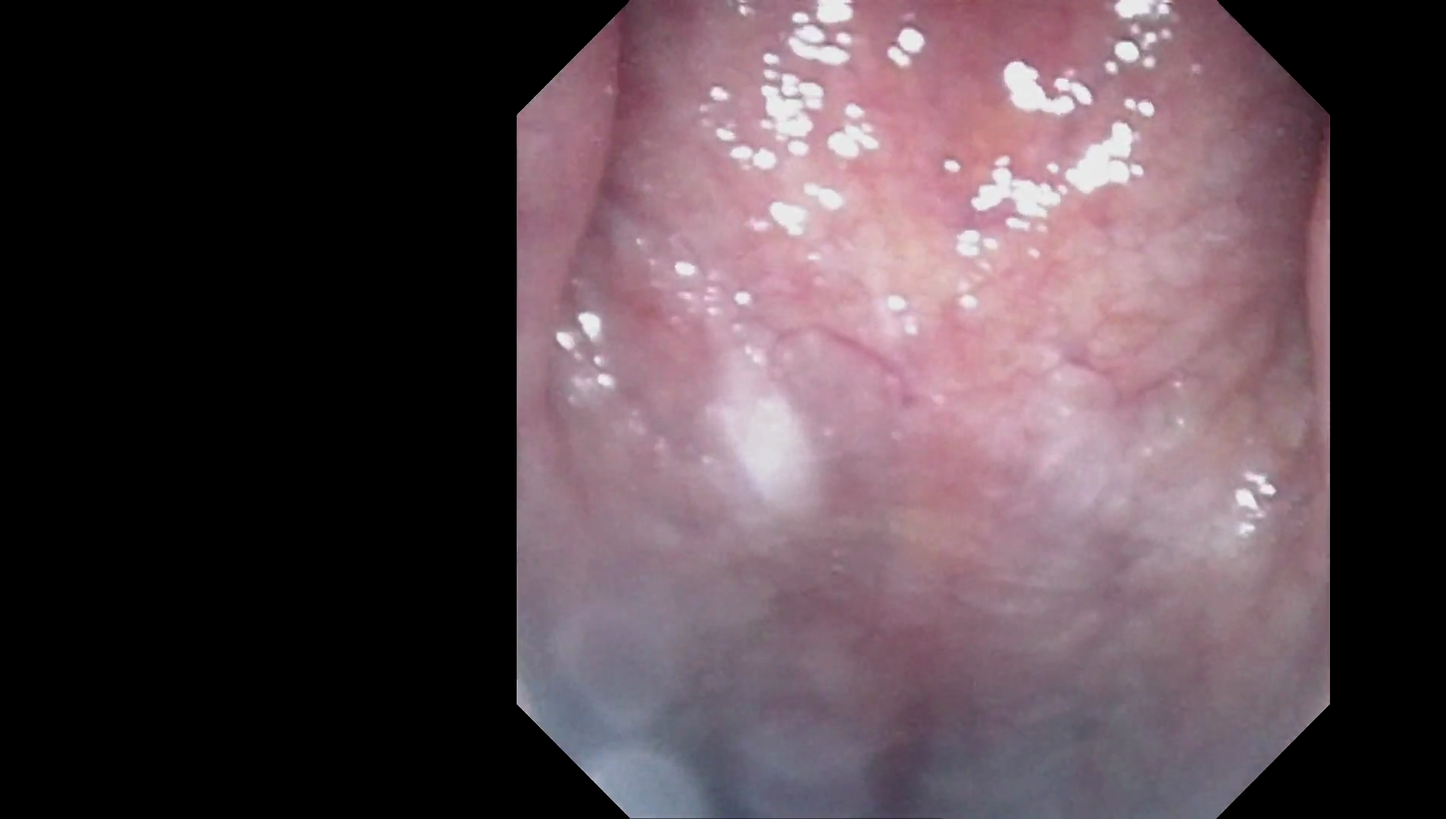next: (574, 687, 1104, 819)
